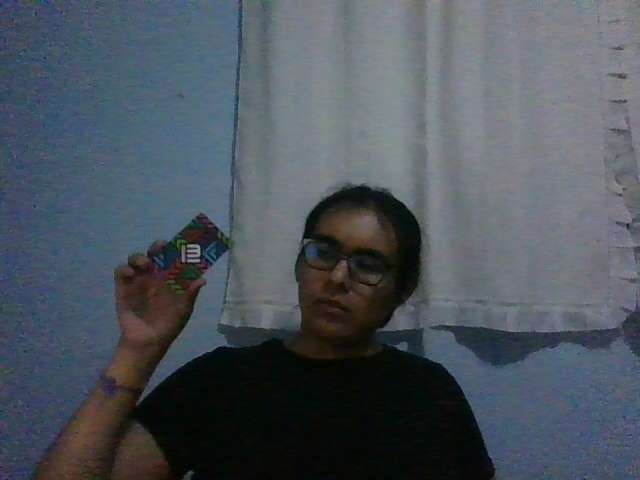tarjeta: (148, 212, 235, 296)
